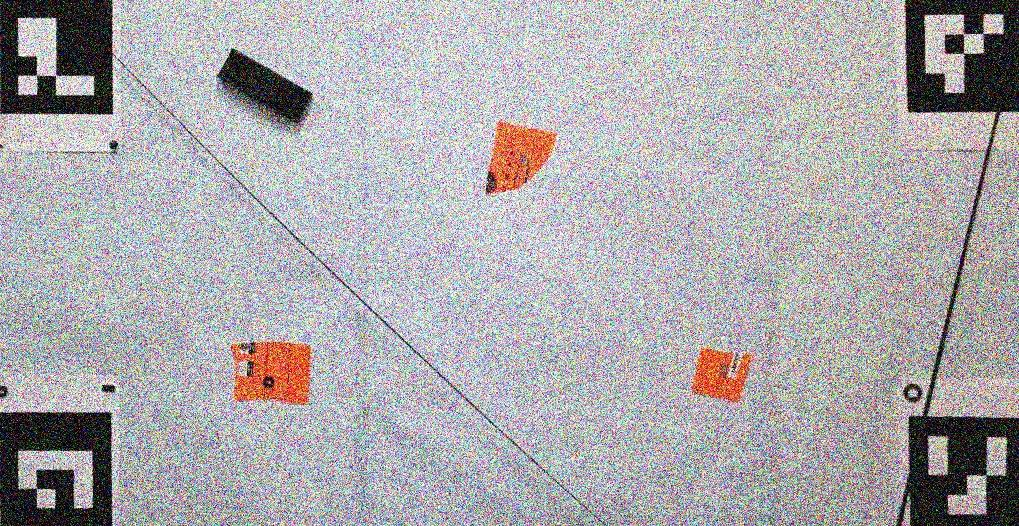obstacle: (216, 47, 313, 125), (485, 119, 556, 194), (231, 342, 312, 405), (689, 347, 753, 403)
